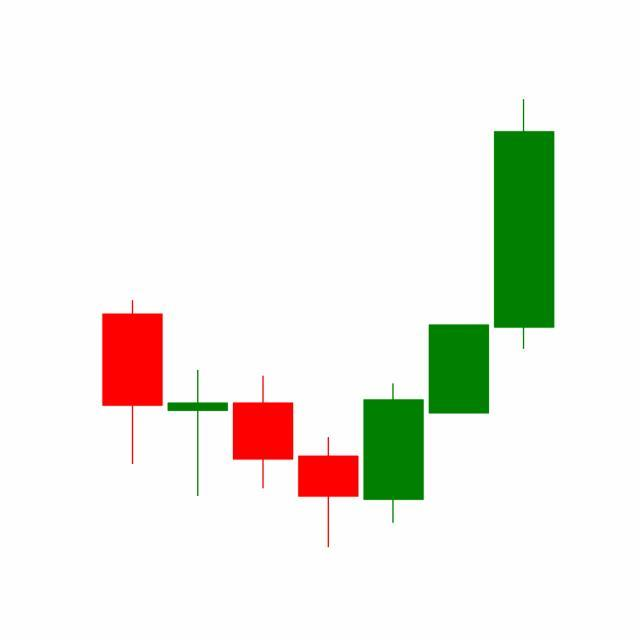Three Outside Up-Down: (295, 321, 492, 548)
